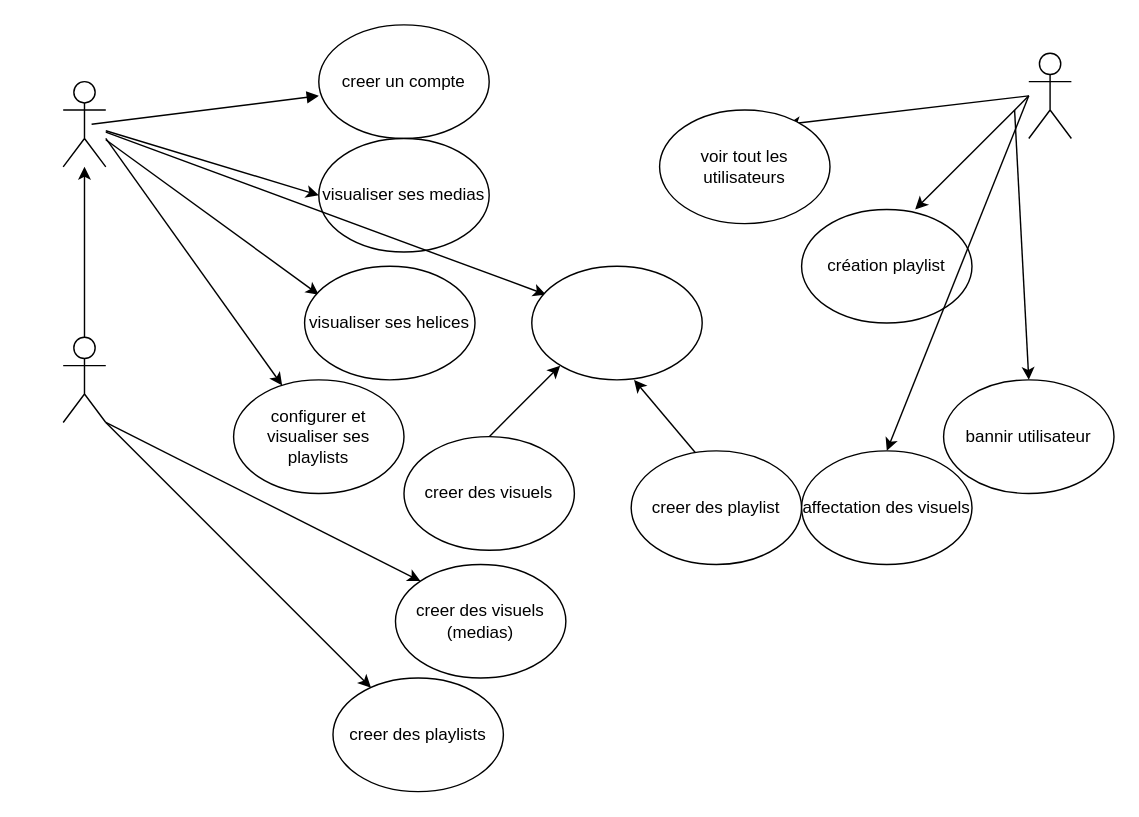
This 1139x817 diagram has some shape labels left out. Here are the shapes that lost their labels. From the top down, the box of each, then its label:
(1027, 52, 1071, 138): admin
(62, 80, 106, 167): utilisateur
(530, 265, 702, 380): faire des demandes
(62, 336, 106, 422): Super utlisateur
